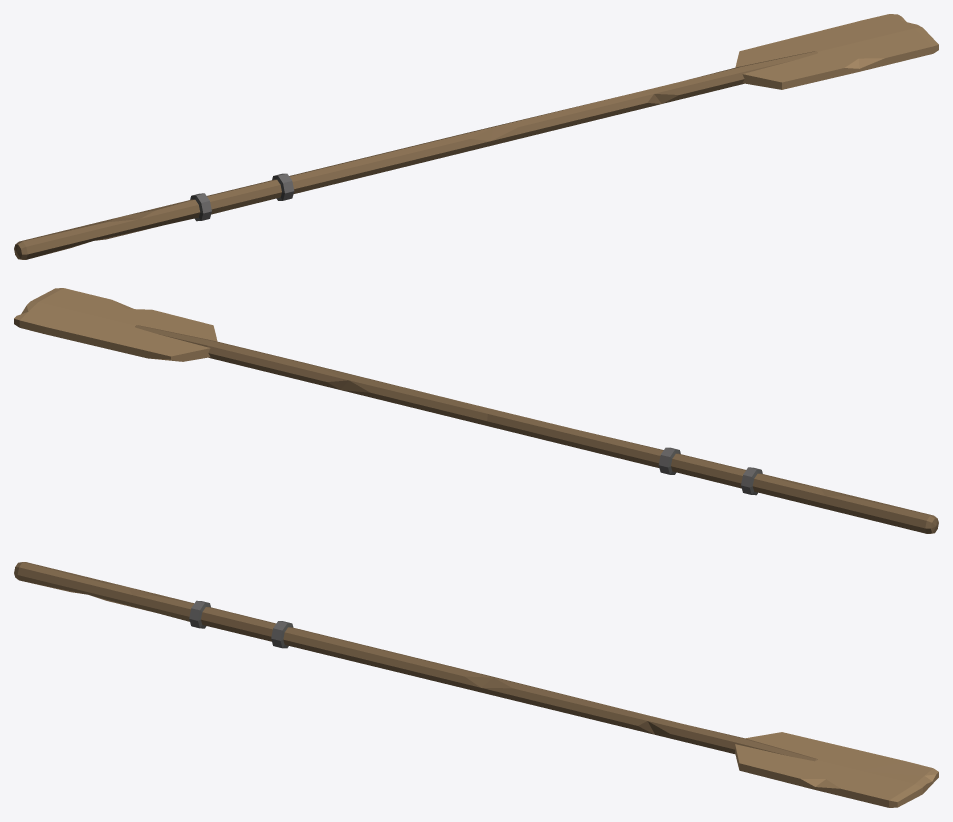
File: SM_Prop_Rowboat_Oar_01.fbx
The picture shows the model from 3 angles, top to bottom: view 1: azimuth 30°, elevation 25°; view 2: azimuth 150°, elevation 25°; view 3: azimuth 330°, elevation 25°; orthographic projection.
Visible parts, largest first — view 1: SM_Prop_Rowboat_Oar_01; view 2: SM_Prop_Rowboat_Oar_01; view 3: SM_Prop_Rowboat_Oar_01.
Part boxes in pixels (left/top/right/bottom): SM_Prop_Rowboat_Oar_01: left=14, top=14, right=938, bottom=259; SM_Prop_Rowboat_Oar_01: left=14, top=288, right=938, bottom=533; SM_Prop_Rowboat_Oar_01: left=14, top=562, right=938, bottom=807.
Size of the model in its own units: 397 by 10.73 by 33.81.
